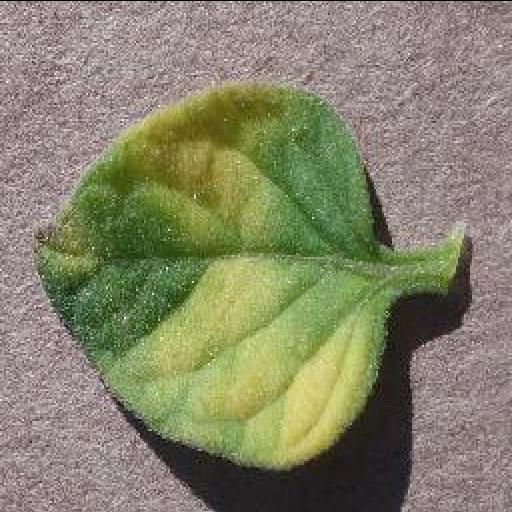disease_tomato: (28, 77, 394, 469)
